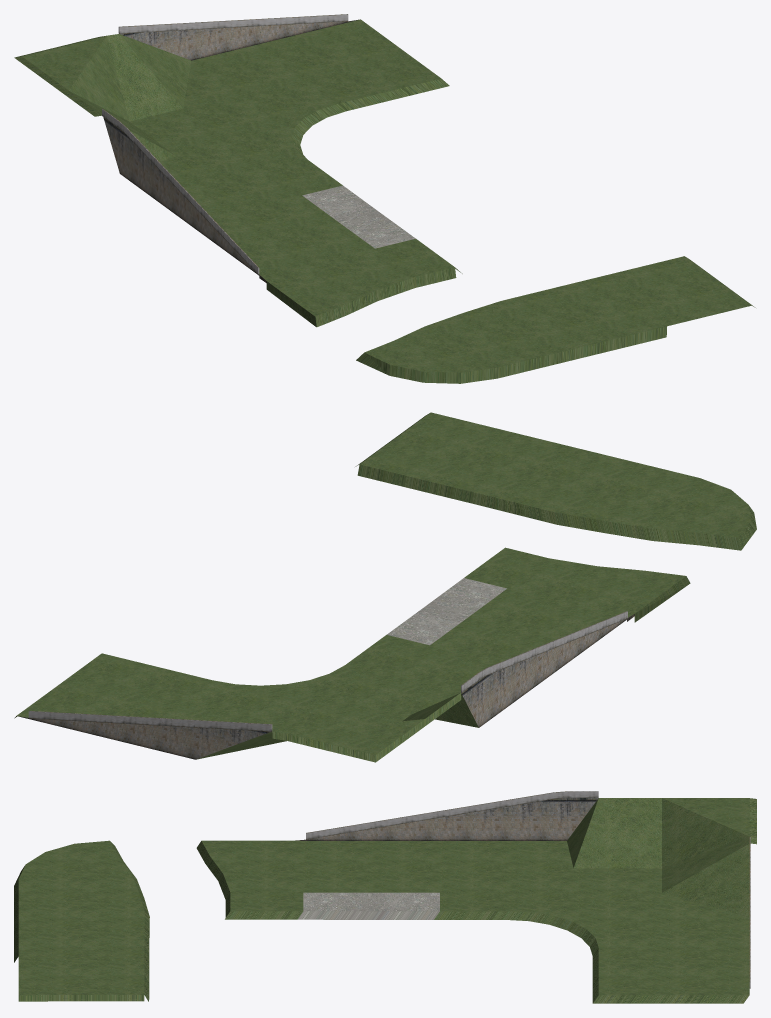
Rendered from cityhallsq_sfs.obj.
3 renders of one model, top to bottom at view 1: azimuth 30°, elevation 25°; view 2: azimuth 150°, elevation 25°; view 3: azimuth 270°, elevation 25°, orthographic. The views are drawn at different scales.
Visible parts, largest first — view 1: cityhallsq_SFS; view 2: cityhallsq_SFS; view 3: cityhallsq_SFS.
Part boxes in pixels (x1,y1,x2,y2): cityhallsq_SFS: [14, 14, 755, 383]; cityhallsq_SFS: [14, 412, 756, 762]; cityhallsq_SFS: [14, 791, 756, 1003].
Bounding box in the file's own units: 82.6 × 13.74 × 163.
Materials: 4 (4 with a texture image).
